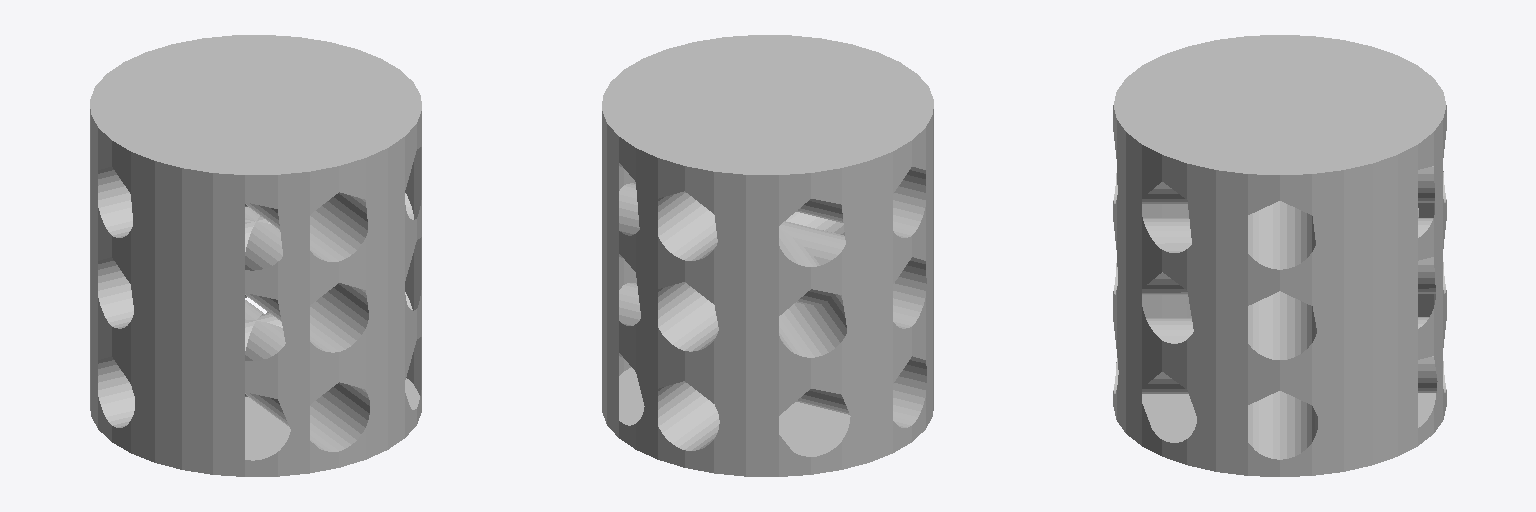
The model's file is cylinderholes.obj.
3 renders of one model, left to right at view 1: azimuth 30°, elevation 25°; view 2: azimuth 150°, elevation 25°; view 3: azimuth 270°, elevation 25°, orthographic.
Parts seen in each view (by area): view 1: Cylinder; view 2: Cylinder; view 3: Cylinder.
Boxes of the visible parts, box(x1,y1,x2,y2) form: Cylinder: box(90, 35, 421, 476); Cylinder: box(602, 35, 933, 476); Cylinder: box(1113, 35, 1446, 476).
Bounding box in the file's own units: 0.8076 × 0.8076 × 0.8076.